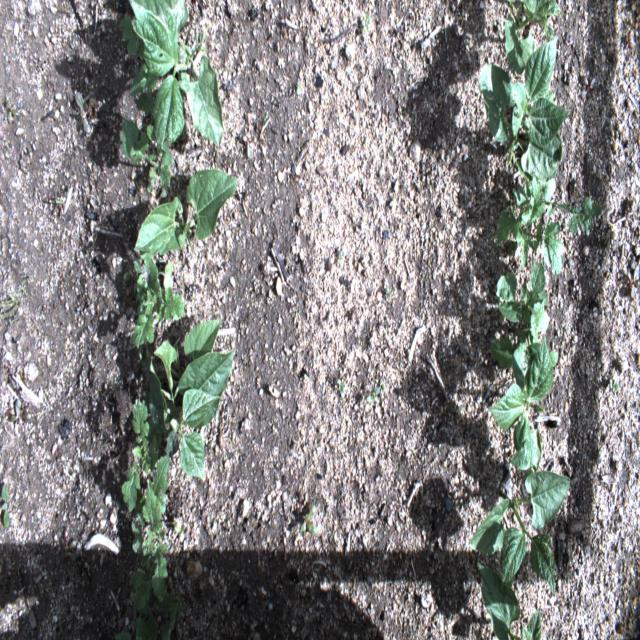crop: (129, 316, 235, 482), (119, 0, 224, 149), (478, 39, 571, 180), (468, 469, 571, 596), (487, 334, 559, 472), (134, 166, 240, 256), (475, 560, 542, 639), (504, 0, 564, 77)
weed: (495, 182, 604, 277), (488, 255, 550, 387), (126, 454, 170, 611), (129, 250, 186, 346), (120, 397, 161, 514), (120, 117, 174, 196), (114, 596, 181, 640), (299, 502, 318, 537), (0, 296, 22, 324), (1, 483, 10, 531), (360, 12, 373, 34), (365, 388, 381, 404), (337, 377, 346, 393), (386, 284, 392, 300), (610, 379, 618, 391), (338, 248, 343, 266)
